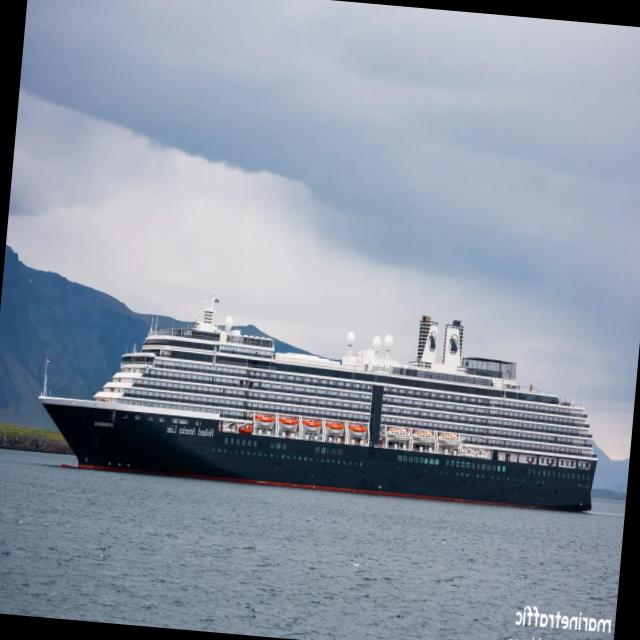Cruise: (39, 299, 596, 511)
